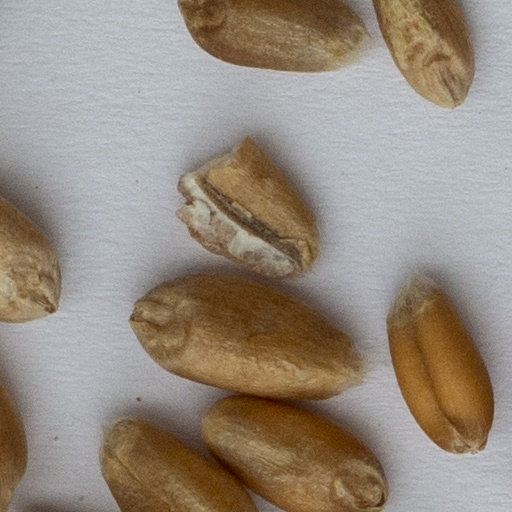Wheat-grain-damaged-poly: (169, 132, 324, 280)
